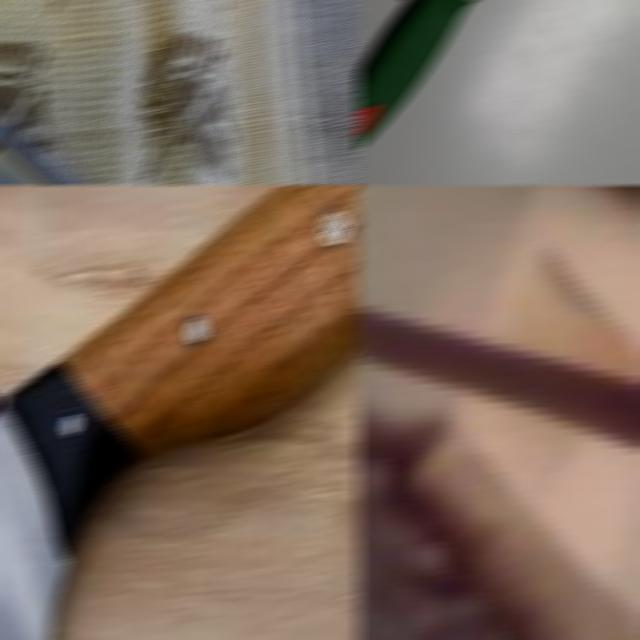Knife: (355, 0, 479, 150)
Knife_Handle: (355, 284, 640, 564)
